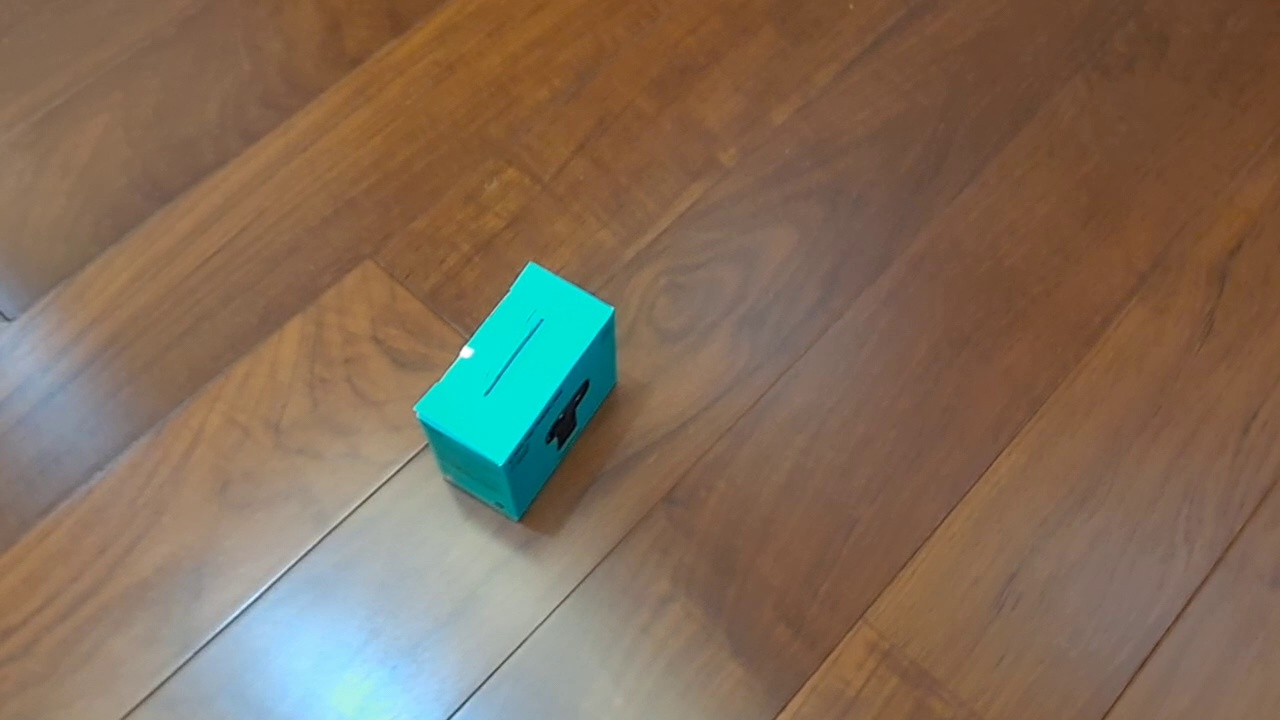webcam: (412, 260, 618, 523)
